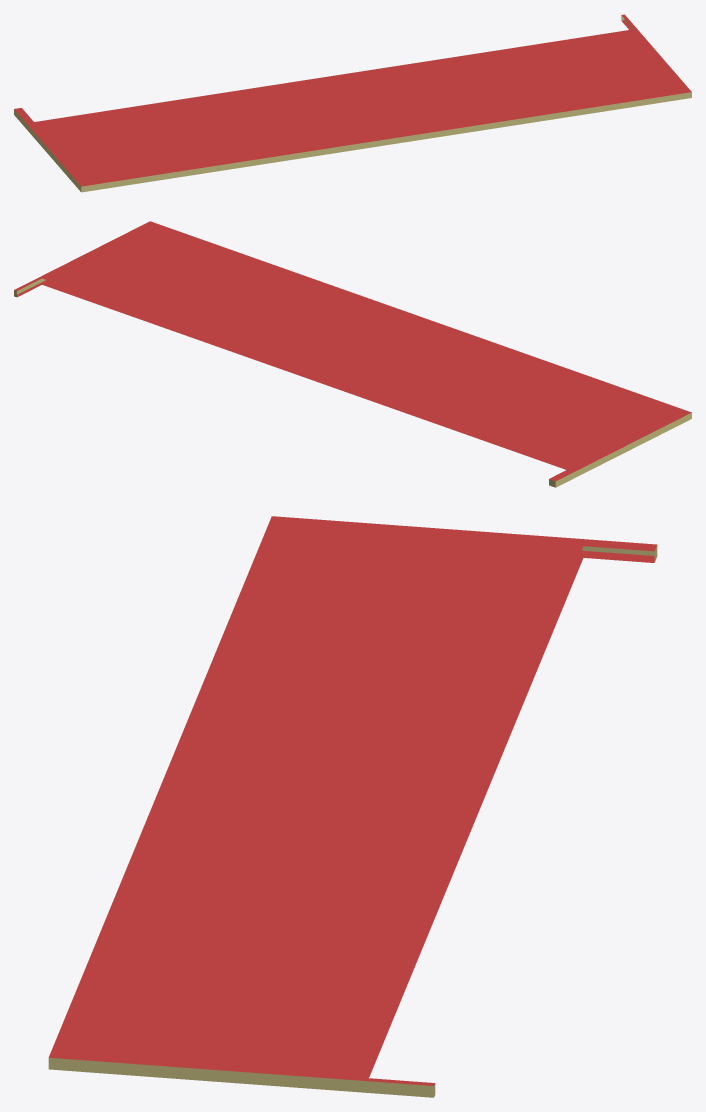
3 renders of one model, top to bottom at view 1: azimuth 30°, elevation 25°; view 2: azimuth 150°, elevation 25°; view 3: azimuth 270°, elevation 25°, orthographic. The views are drawn at different scales.
Size of the model in its own units: 10.42 by 4.7 by 0.1.
